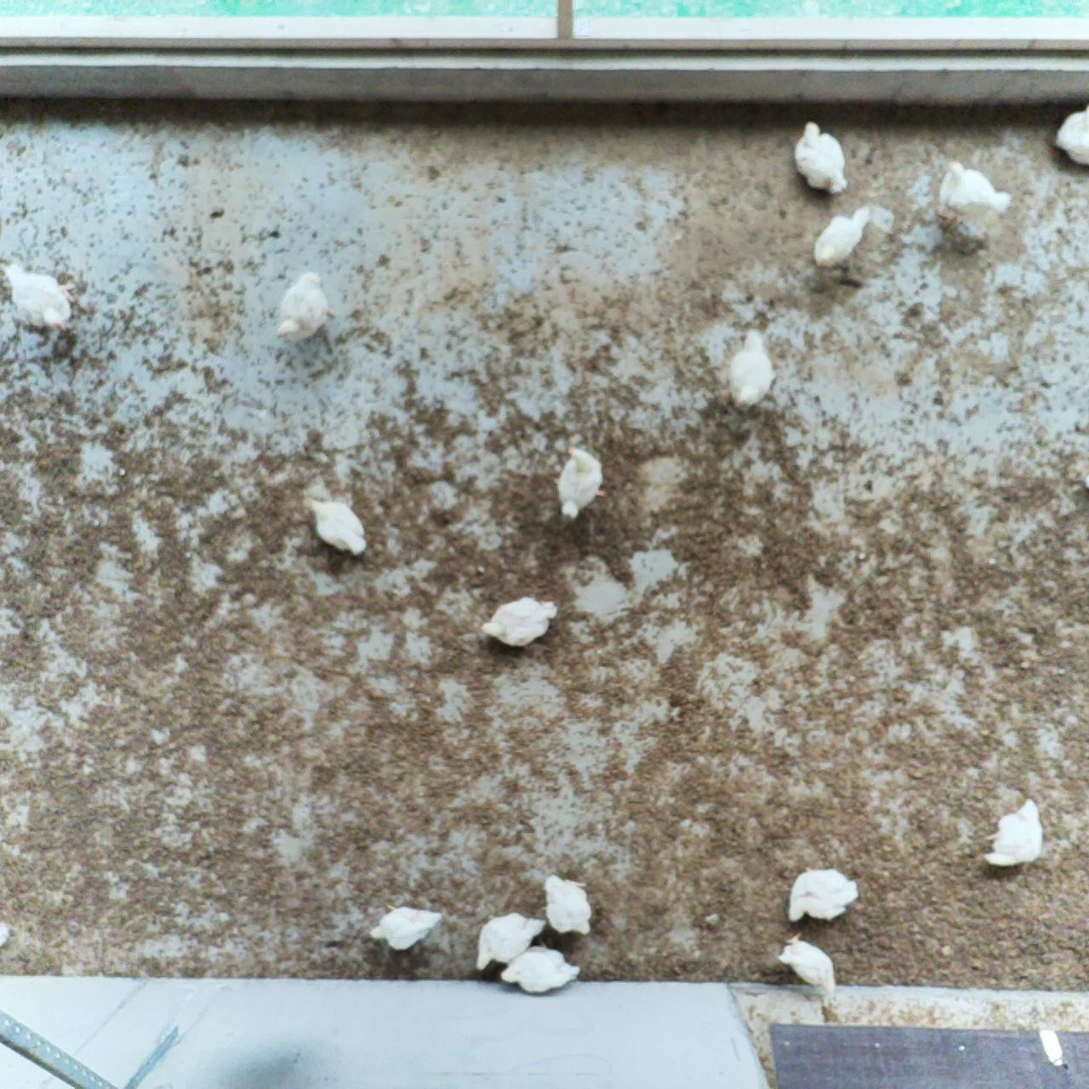chicken: (935, 154, 1015, 238), (1, 260, 79, 335), (472, 908, 550, 976), (783, 864, 863, 929), (497, 940, 585, 999), (726, 324, 781, 418), (274, 267, 338, 347), (775, 929, 842, 1005), (981, 796, 1047, 872), (479, 591, 561, 651), (792, 119, 852, 197), (810, 204, 877, 271), (552, 443, 609, 520), (306, 493, 369, 562), (368, 901, 445, 953), (541, 870, 597, 939), (1049, 97, 1089, 168)
